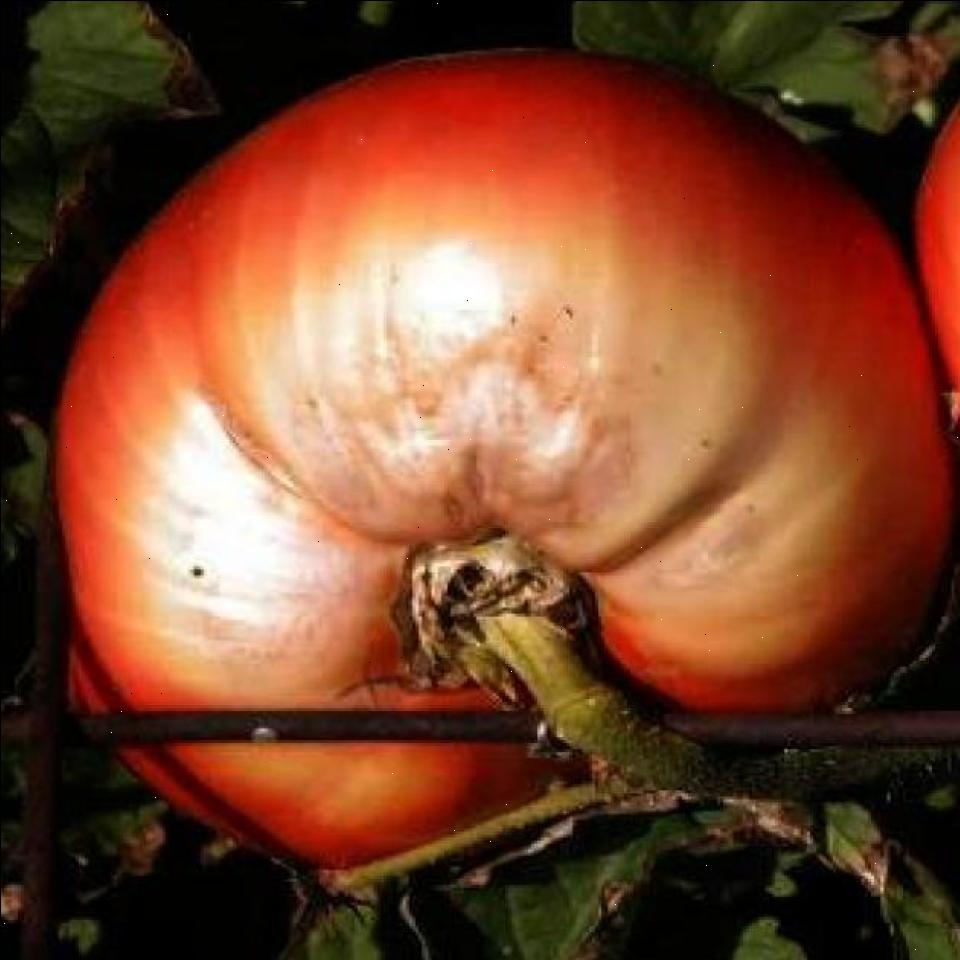Sunscald: (132, 168, 845, 689)
